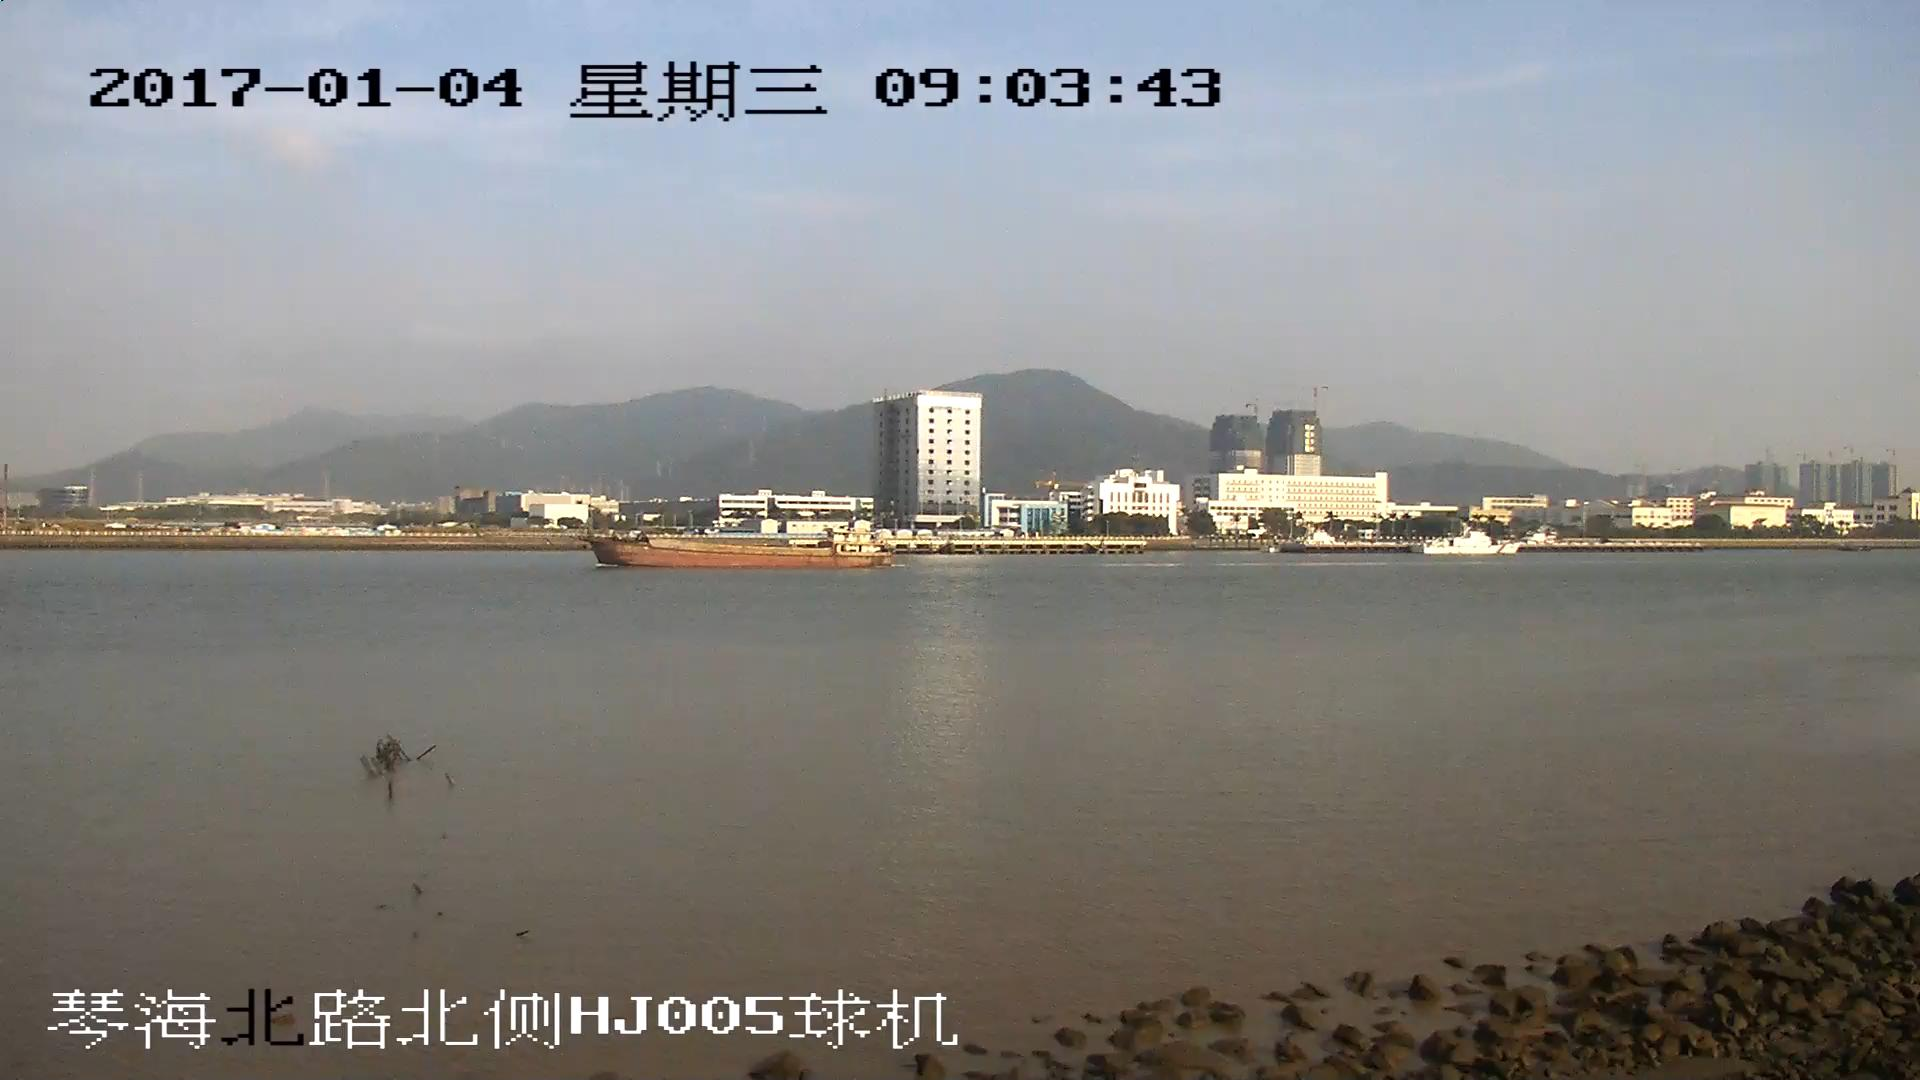bulk cargo carrier: (589, 525, 887, 570)
